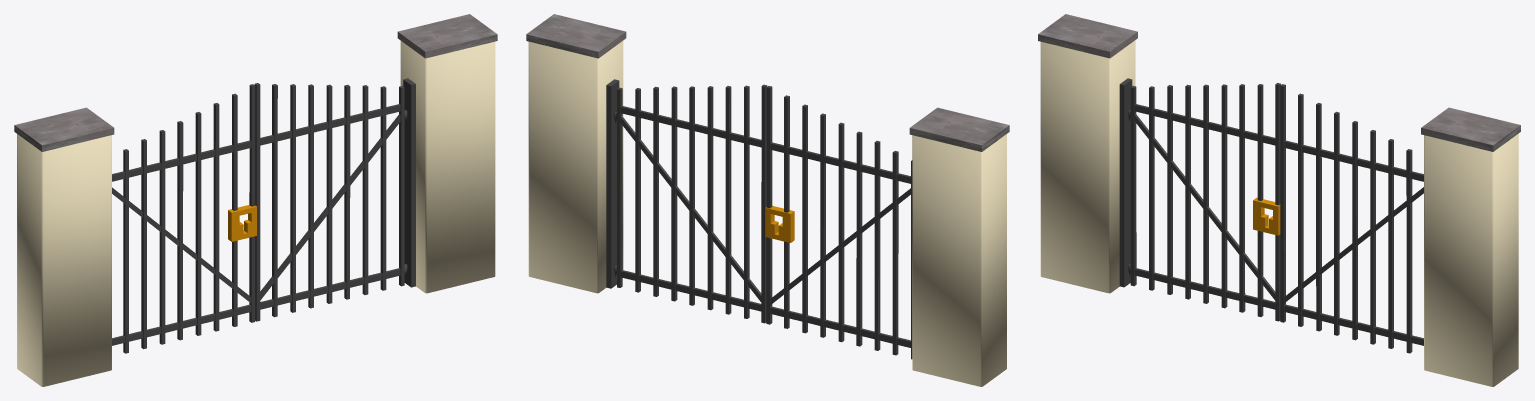
The model's file is PuertaJardin.fbx.
3 views of the same model, side by side, from view 1: azimuth 30°, elevation 25°; view 2: azimuth 150°, elevation 25°; view 3: azimuth 330°, elevation 25° (orthographic).
Visible parts, largest first — view 1: Columna, Columna.001, Plane.001, Plane, Baldosa, Baldosa.002, Cube, Cube.003; view 2: Columna, Columna.001, Plane.001, Plane, Baldosa, Baldosa.002, Cube, Cube.003; view 3: Columna.001, Columna, Plane, Plane.001, Baldosa, Baldosa.002, Cube, Cube.003.
Part boxes in pixels (left/top/right/bottom): Columna: left=17, top=134, right=111, bottom=386; Columna.001: left=400, top=41, right=495, bottom=293; Plane.001: left=254, top=83, right=407, bottom=321; Plane: left=112, top=84, right=255, bottom=353; Baldosa: left=397, top=14, right=497, bottom=58; Baldosa.002: left=14, top=107, right=114, bottom=151; Cube: left=403, top=78, right=415, bottom=287; Cube.003: left=228, top=205, right=256, bottom=241; Columna: left=912, top=134, right=1006, bottom=386; Columna.001: left=528, top=41, right=623, bottom=293; Plane.001: left=614, top=84, right=767, bottom=323; Plane: left=766, top=86, right=912, bottom=359; Baldosa: left=526, top=14, right=626, bottom=58; Baldosa.002: left=909, top=107, right=1009, bottom=151; Cube: left=606, top=79, right=619, bottom=288; Cube.003: left=765, top=206, right=794, bottom=242; Columna.001: left=1424, top=134, right=1518, bottom=386; Columna: left=1040, top=40, right=1135, bottom=293; Plane: left=1128, top=83, right=1280, bottom=321; Plane.001: left=1280, top=84, right=1423, bottom=353; Baldosa: left=1421, top=107, right=1520, bottom=151; Baldosa.002: left=1038, top=14, right=1137, bottom=58; Cube: left=1119, top=78, right=1132, bottom=287; Cube.003: left=1253, top=197, right=1280, bottom=235.
Bounding box in the file's own units: 1008 × 513 × 106.
